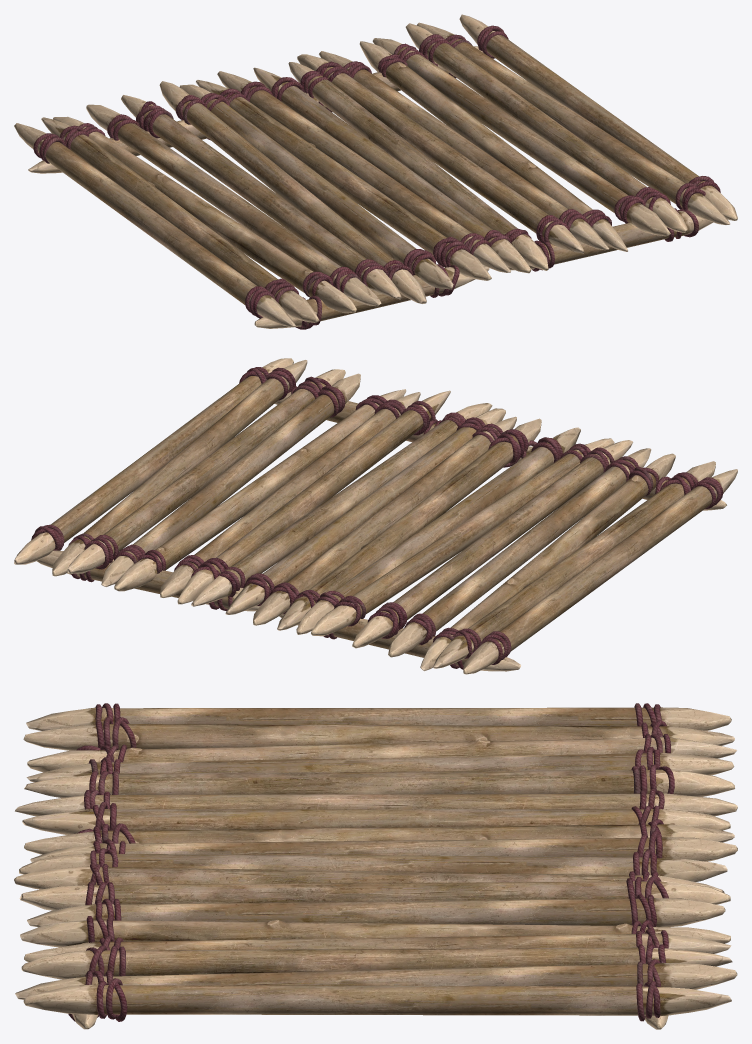
3 renders of one model, top to bottom at view 1: azimuth 30°, elevation 25°; view 2: azimuth 150°, elevation 25°; view 3: azimuth 270°, elevation 25°, orthographic. The views are drawn at different scales.
Parts seen in each view (by area): view 1: SM_Garou_Set_SM_LogPlatform_8x8_LOD0; view 2: SM_Garou_Set_SM_LogPlatform_8x8_LOD0; view 3: SM_Garou_Set_SM_LogPlatform_8x8_LOD0.
Boxes of the visible parts, x1,y1,x2,y2 form: SM_Garou_Set_SM_LogPlatform_8x8_LOD0: (14,14,737,329); SM_Garou_Set_SM_LogPlatform_8x8_LOD0: (14,358,737,674); SM_Garou_Set_SM_LogPlatform_8x8_LOD0: (14,703,737,1029).
Size of the model in its own units: 8.21 by 0.7567 by 8.31.
Materials: 1 (1 with a texture image).
